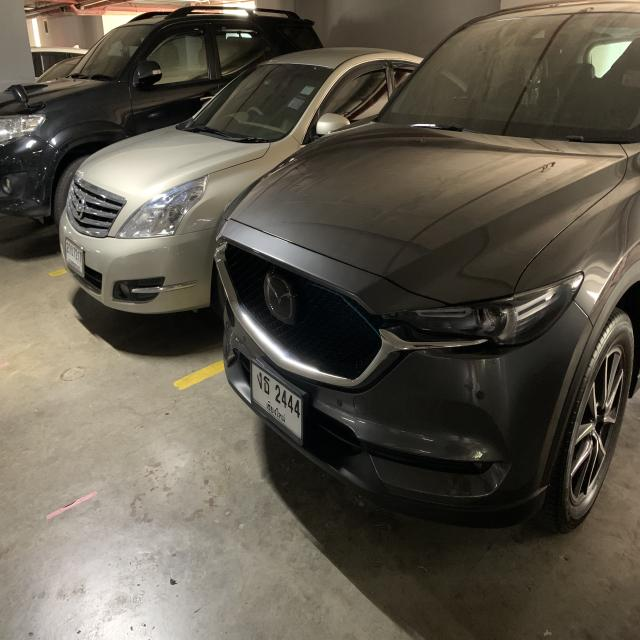license_plate: (248, 357, 306, 446), (64, 235, 88, 282)
